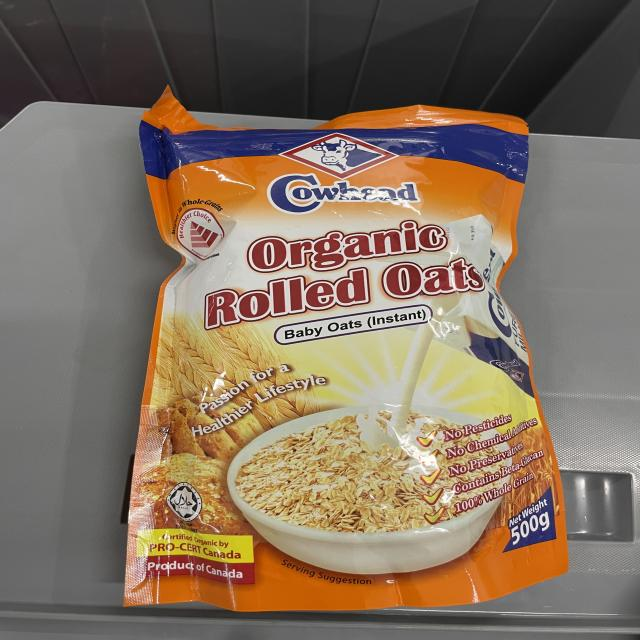object_name: (161, 113, 542, 605)
